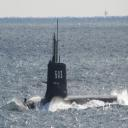submarine: (26, 20, 127, 104)
